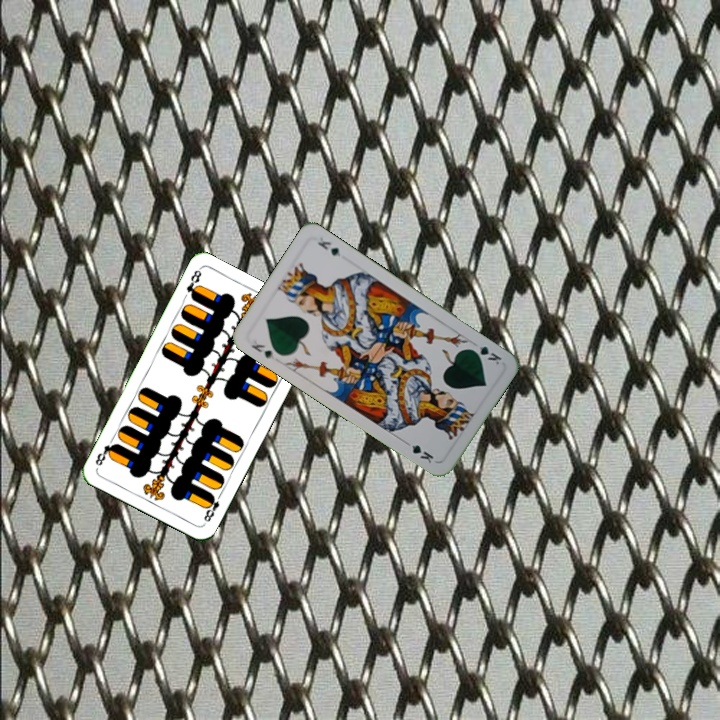E8: (200, 489, 225, 525), (182, 265, 204, 302)
GK: (466, 341, 504, 367), (247, 335, 277, 362)
